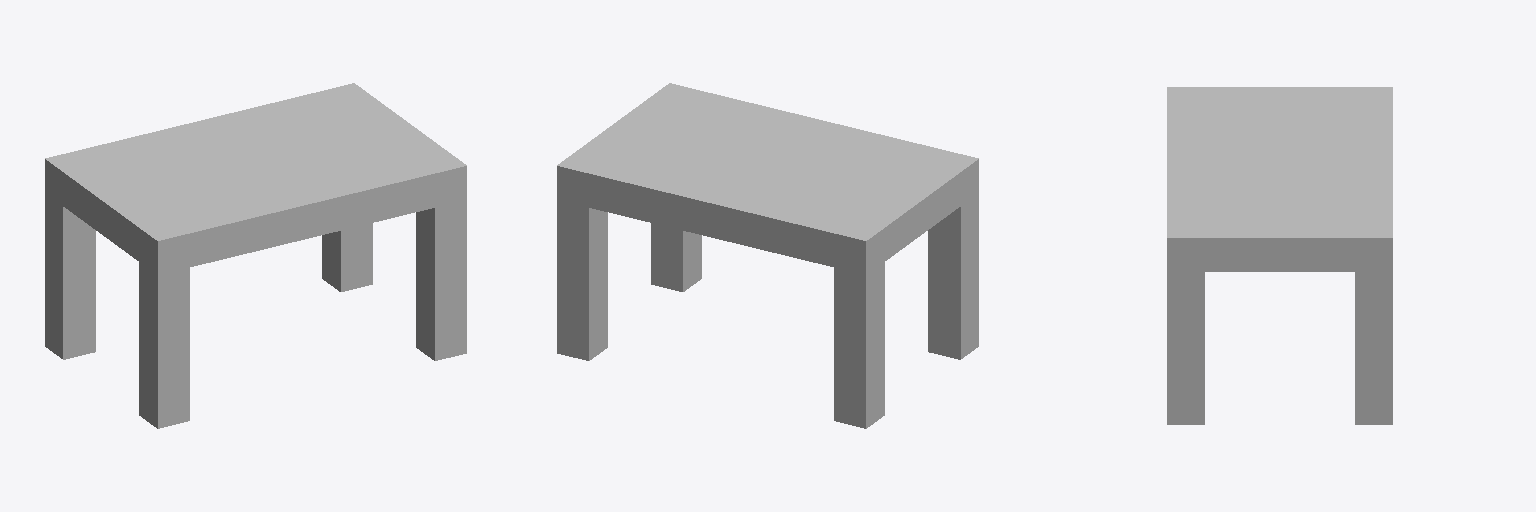
The model's file is Table.obj.
3 renders of one model, left to right at view 1: azimuth 30°, elevation 25°; view 2: azimuth 150°, elevation 25°; view 3: azimuth 270°, elevation 25°, orthographic.
Parts seen in each view (by area): view 1: object 1; view 2: object 1; view 3: object 1.
Boxes of the visible parts, x1,y1,x2,y2 form: object 1: [45, 83, 466, 428]; object 1: [557, 83, 978, 428]; object 1: [1167, 87, 1392, 424].
Size of the model in its own units: 1.9 by 1.1 by 1.2.